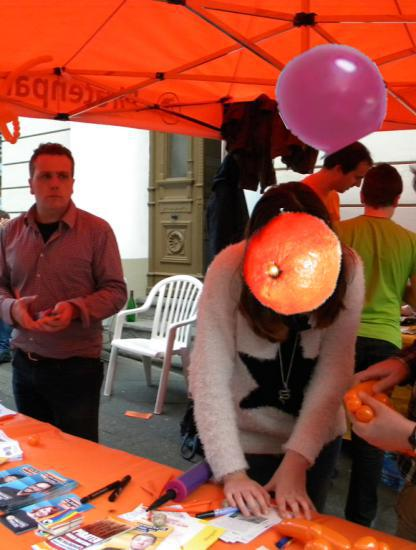Clementine: (237, 207, 347, 317)
Redcurrant: (277, 42, 387, 152)
